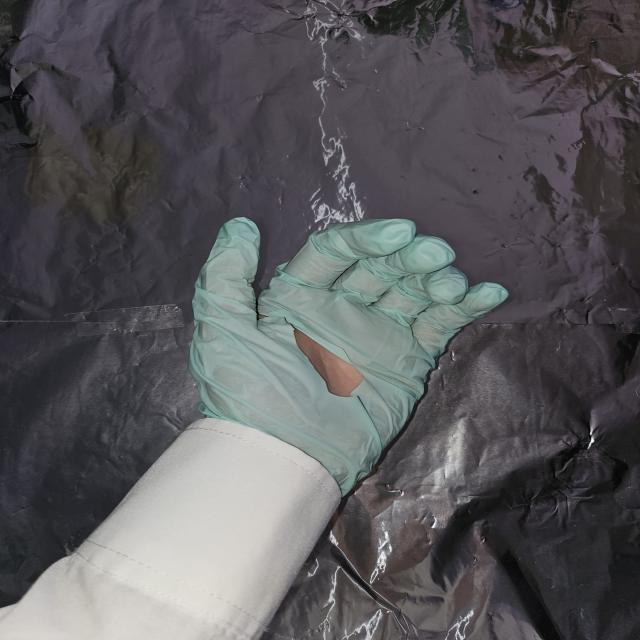gloves_damaged: (186, 215, 508, 500)
